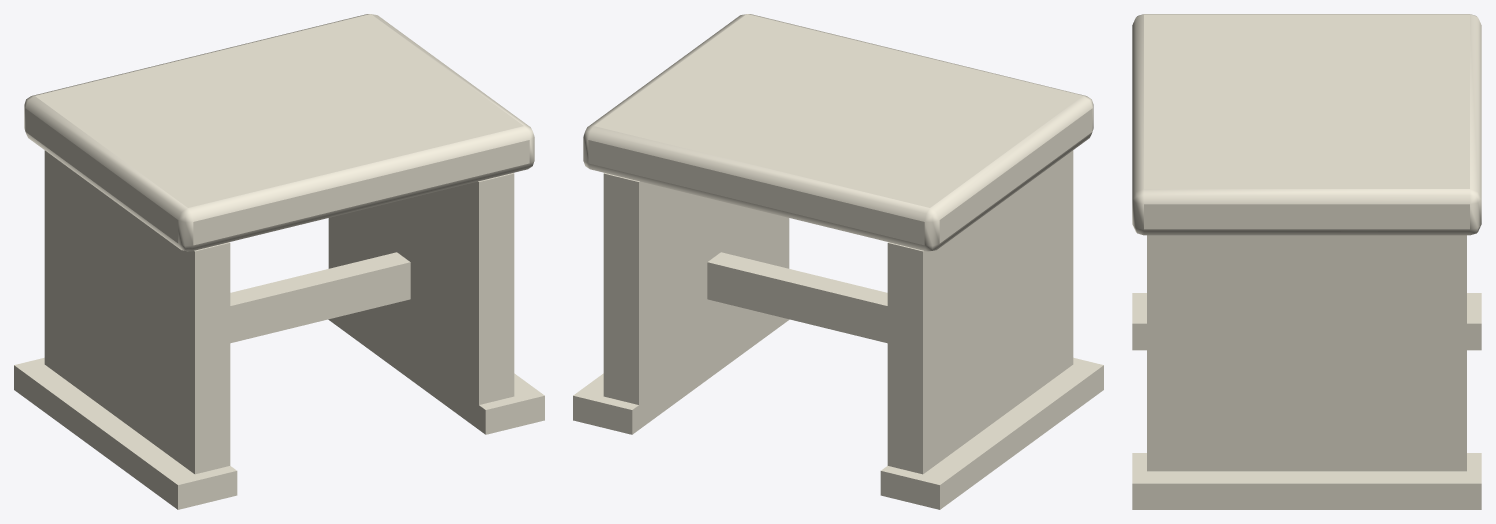
File: bath_stool.mobile.glb
3 views of the same model, side by side, from view 1: azimuth 30°, elevation 25°; view 2: azimuth 150°, elevation 25°; view 3: azimuth 270°, elevation 25° (orthographic). The views are drawn at different scales.
Parts seen in each view (by area): view 1: Stool; view 2: Stool; view 3: Stool.
Boxes of the visible parts, <box> form: Stool: <box>14,14,544,509</box>; Stool: <box>573,14,1103,509</box>; Stool: <box>1132,14,1481,509</box>.
Bounding box in the file's own units: 0.31 × 0.2375 × 0.24.
